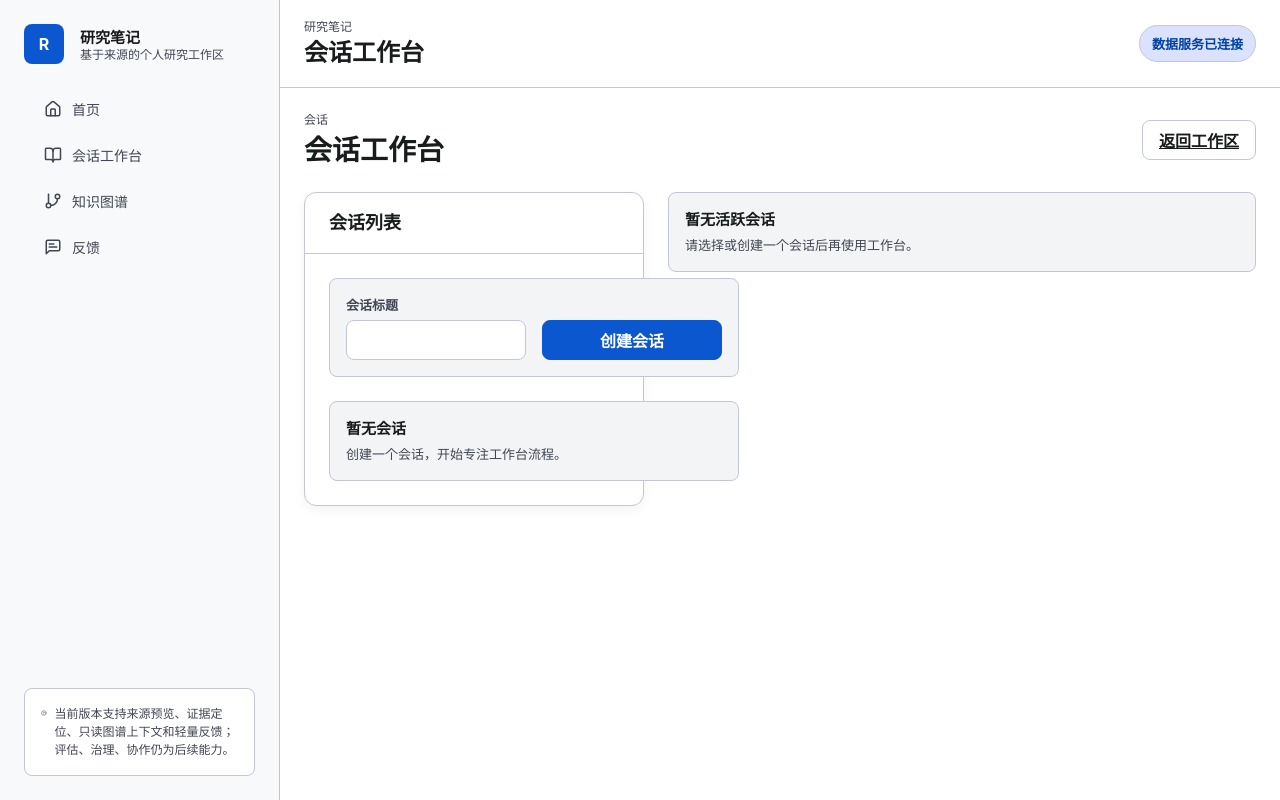
Test case: 会话工作台 smoke › creates a session and selects it
The width and height of the screenshot is (1280, 800).
expect the heading "暂无会话" is shown: met, box [346,419,406,438]
In the field labelled "会话标题": (436, 340) [346,320,526,360], type "Interview prep"
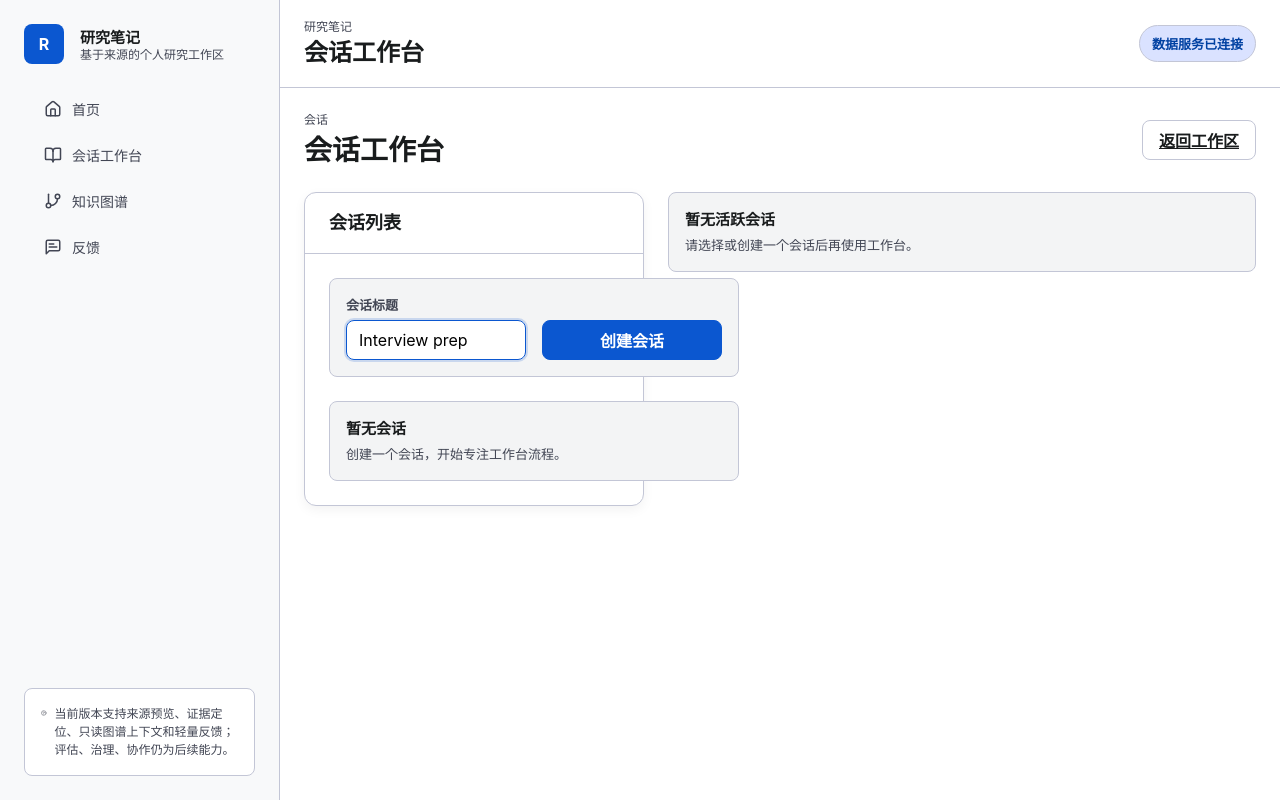
Click the button "创建会话": (632, 340) [542,320,722,360]
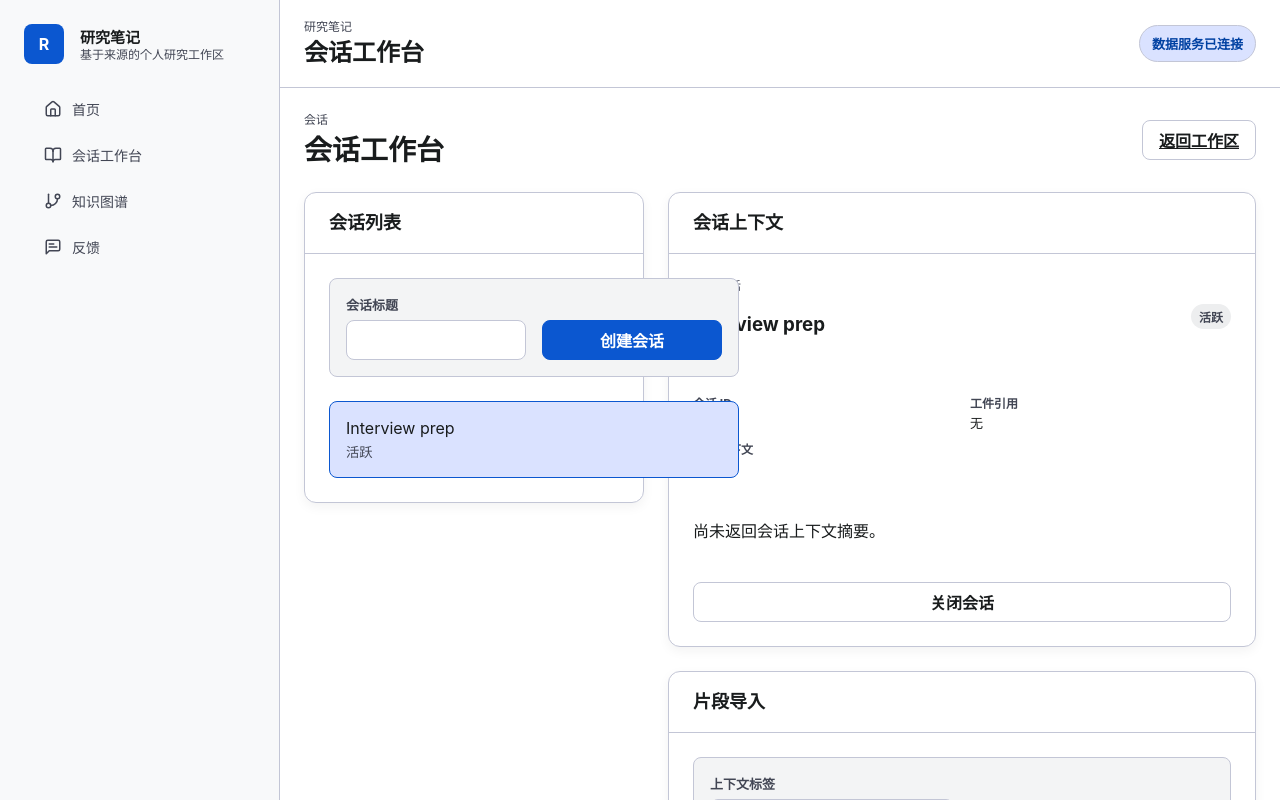
expect the button "Interview prep 活跃" is shown: met, box [329,401,739,478]
expect the text "当前会话" is shown: met, box [693,278,741,293]
